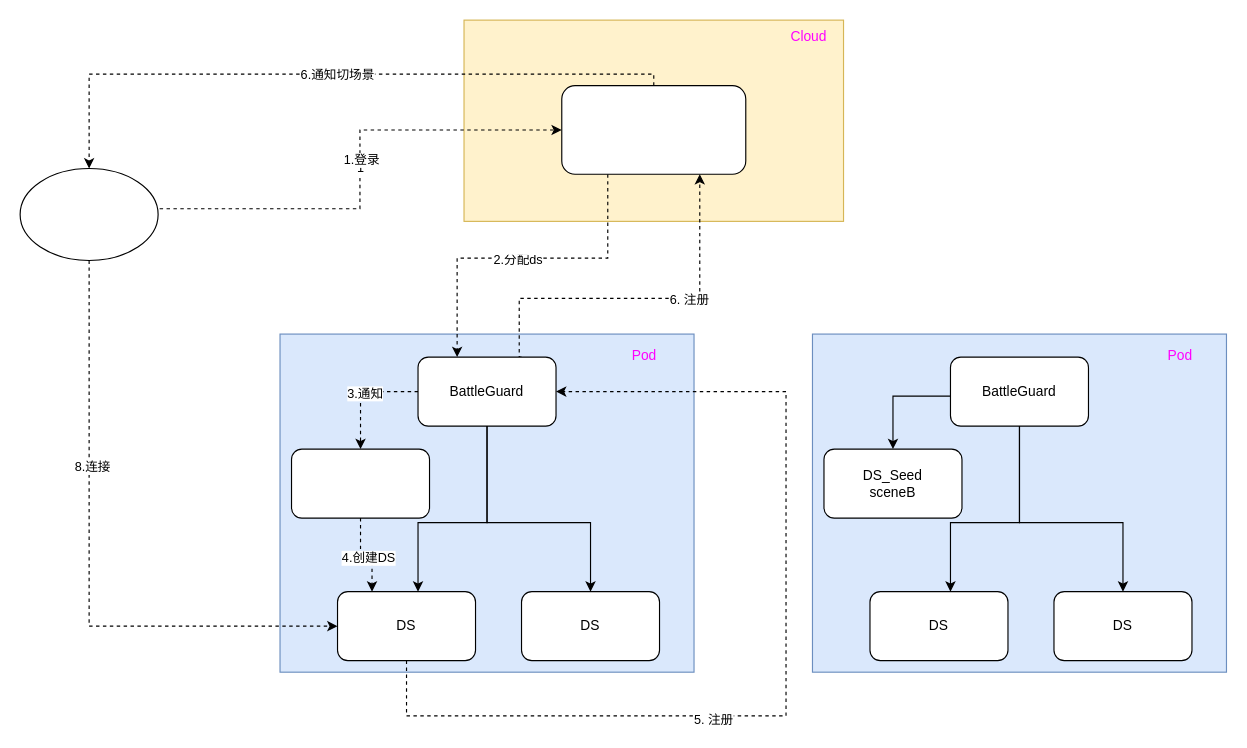
The diagram is 1247 pixels wide and 748 high, and some of its shapes have lost their labels. Here are the shapes that lost their labels. From the top down, the box of each, then its label:
(561, 85, 746, 174): GlobalSpaceManager
(19, 167, 158, 260): Client
(290, 448, 430, 518): DS_Seed sceneA
